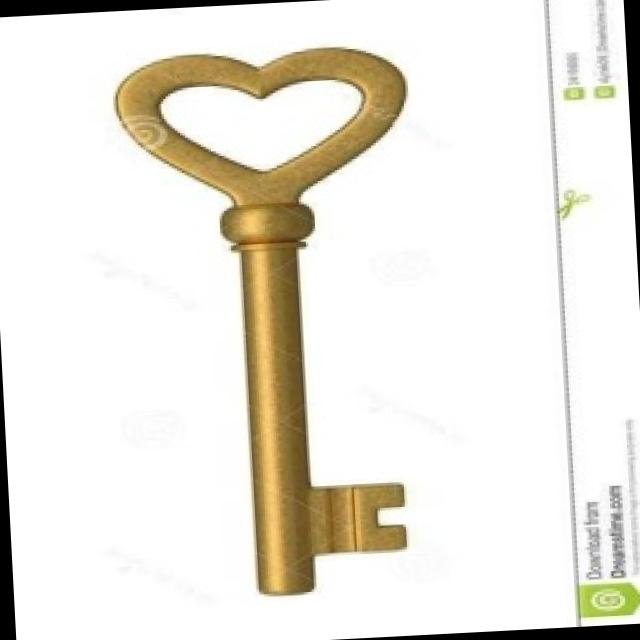anahtar: (104, 33, 450, 618)
